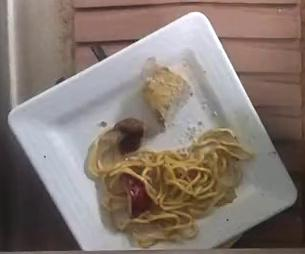fish: (143, 65, 190, 126)
pasta: (86, 127, 250, 245)
potato: (120, 173, 152, 218), (113, 118, 145, 155)
